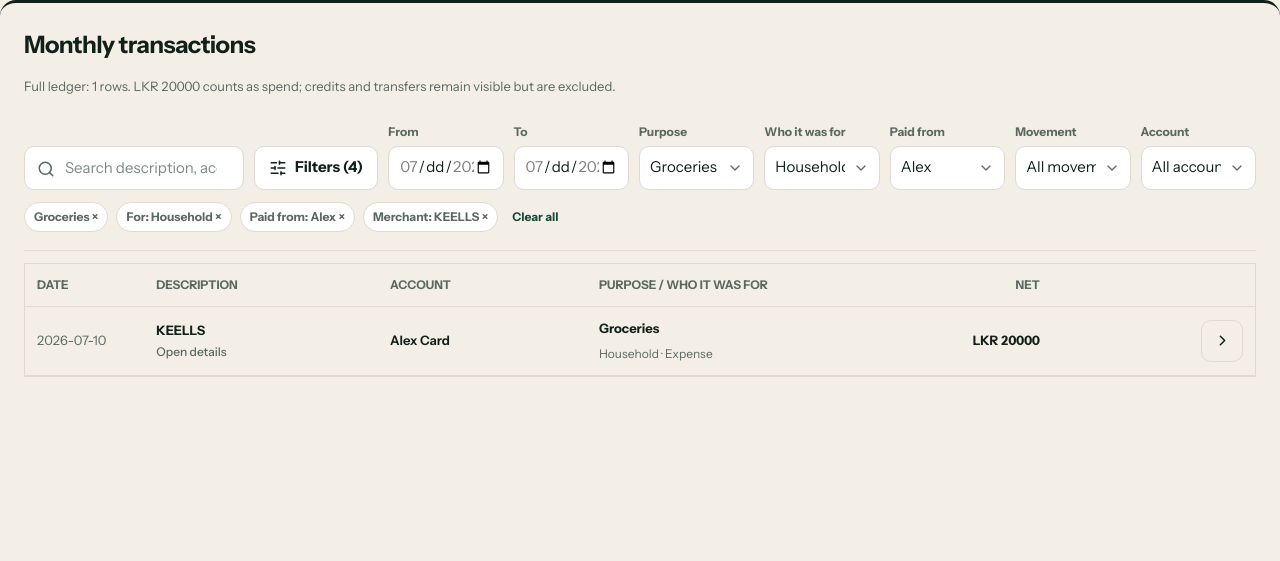
it: TransactionsView beneficiary and payer workflow › combines purpose, beneficiary, and payer filters and clears them visibly
Expected: the text "UBER" is not shown
Click the button "Clear all" at (535, 216), box [506, 202, 565, 232]
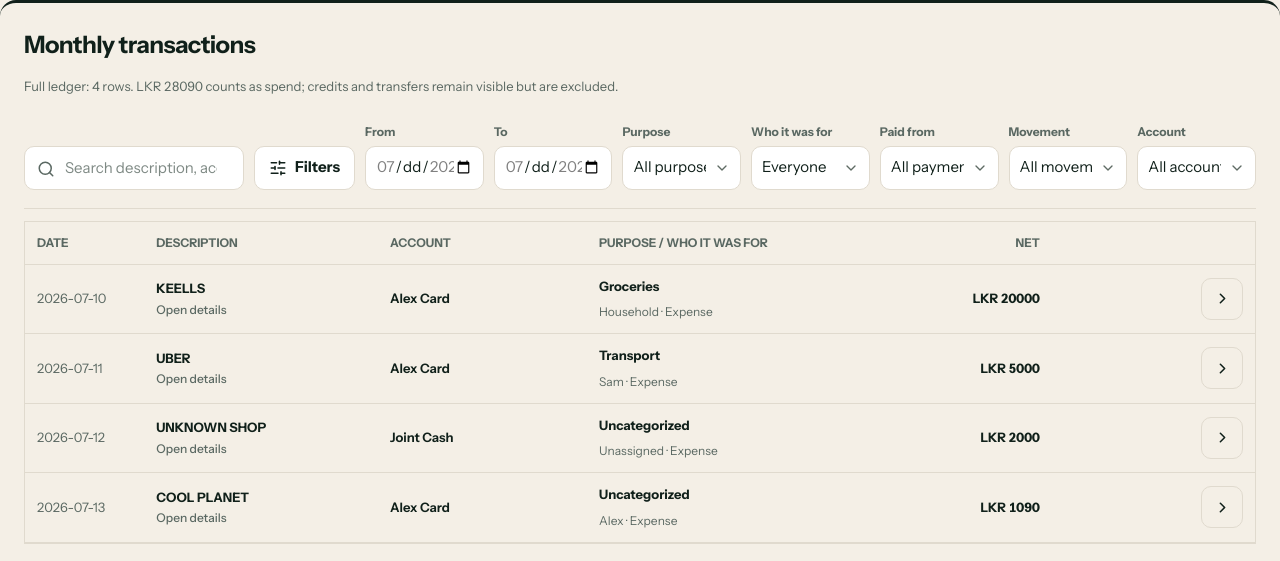
Expected: the text "UBER" is shown, [156, 348, 190, 368]
Expected: the text "UNKNOWN SHOP" is shown, [156, 418, 266, 438]
